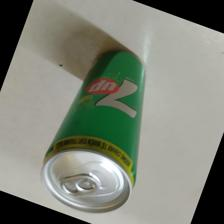7up: (39, 49, 150, 215)
